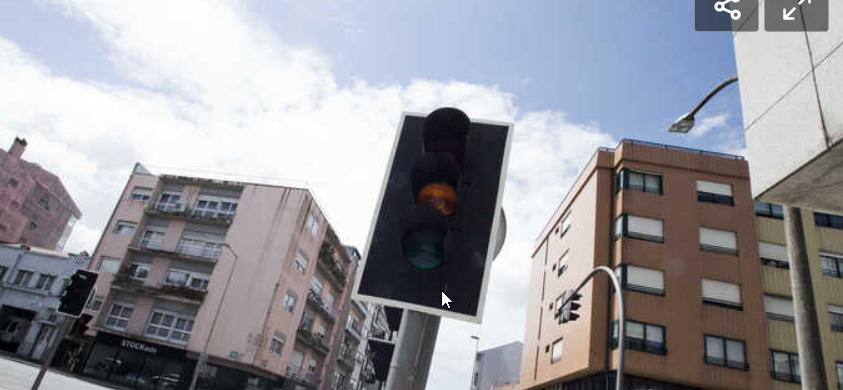yellow_light: (351, 107, 513, 324)
